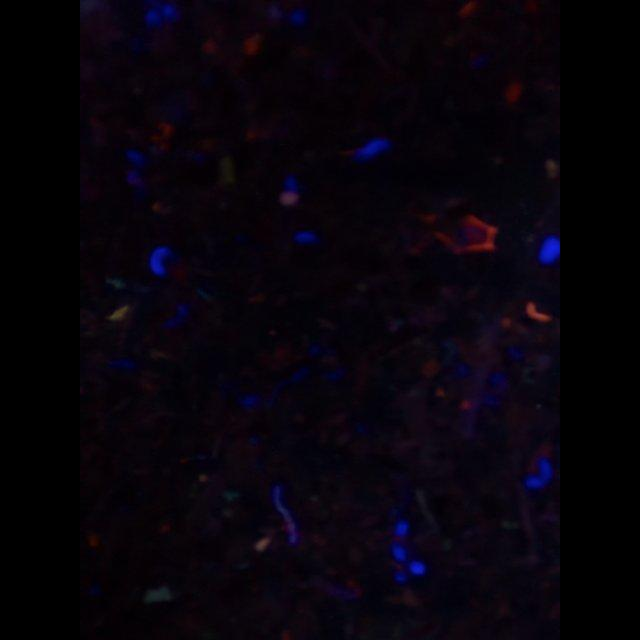Fibre: (144, 586, 178, 604)
